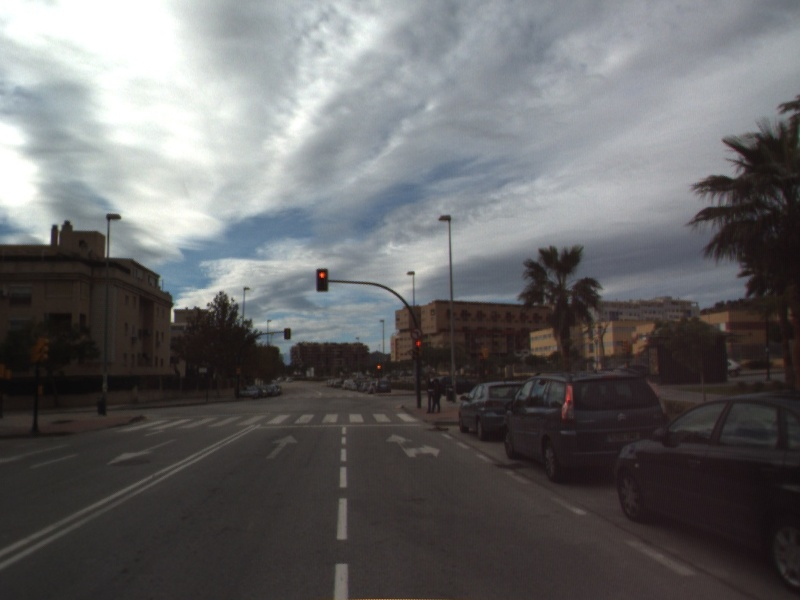STRAIGHT: (264, 432, 301, 461)
STRAIGHT_RIGHT: (383, 432, 442, 460)
